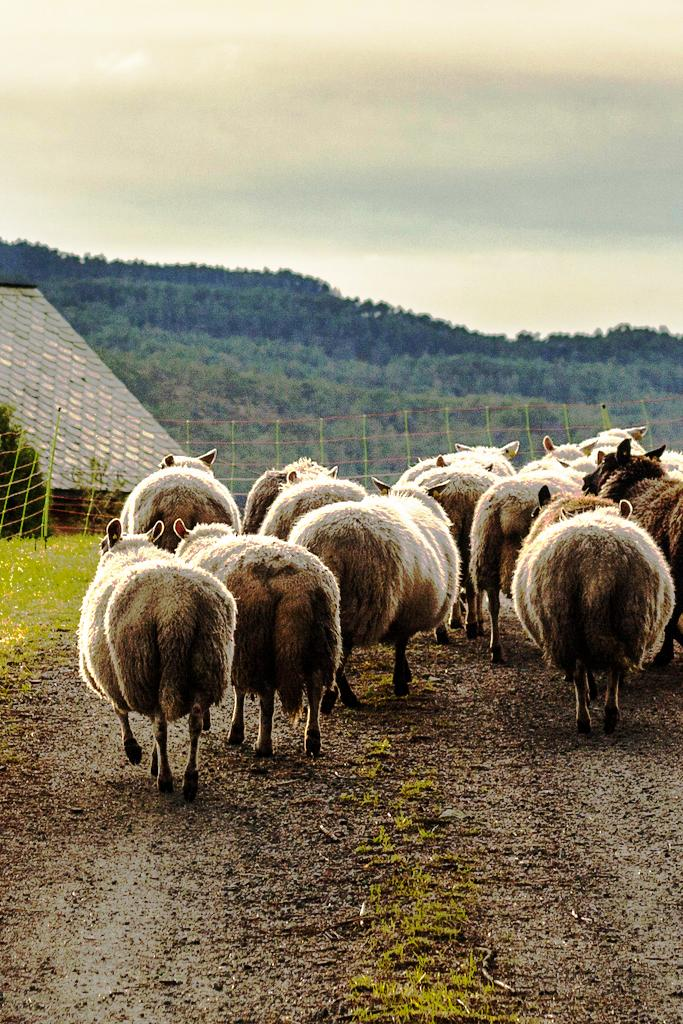Sheep: (77, 520, 240, 802), (180, 516, 347, 772), (518, 482, 676, 735), (340, 474, 450, 726), (478, 435, 595, 586), (580, 440, 683, 602), (97, 443, 244, 535), (404, 432, 524, 524), (263, 444, 363, 554)
